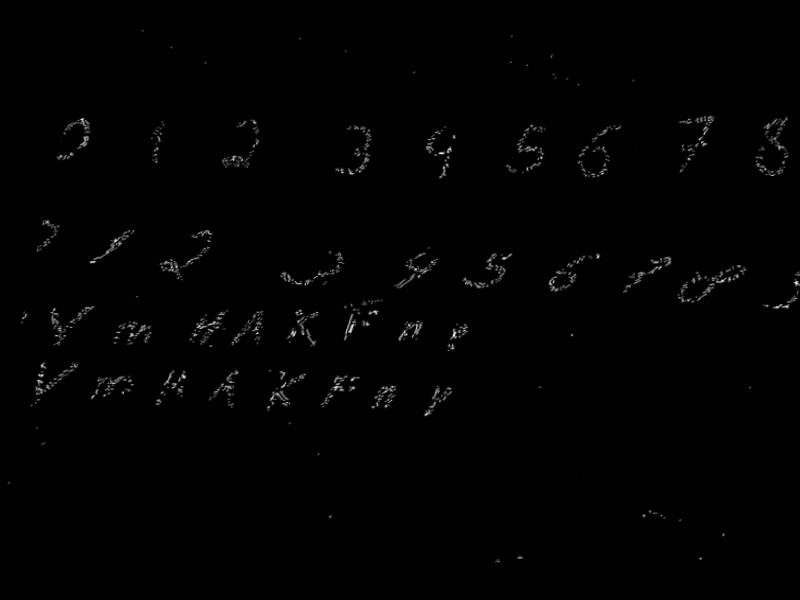0: (56, 116, 99, 162), (34, 216, 68, 266)
1: (80, 224, 140, 267), (134, 118, 176, 165)
2: (150, 229, 218, 283), (214, 116, 273, 172)
3: (273, 246, 352, 289), (325, 122, 385, 177)
4: (409, 125, 466, 182), (386, 246, 447, 290)
5: (498, 123, 557, 176), (457, 251, 517, 289)
6: (566, 122, 628, 181), (542, 251, 604, 296)
7: (656, 113, 721, 175), (616, 253, 675, 296)
8: (669, 253, 753, 308), (742, 114, 800, 181)
9: (755, 262, 800, 316)
A: (205, 368, 247, 411), (230, 308, 272, 348)
F: (316, 373, 363, 412), (338, 306, 382, 345)
H: (185, 307, 231, 348), (153, 367, 192, 407)
V: (19, 359, 83, 411), (33, 304, 97, 348)
k: (261, 367, 311, 413), (279, 307, 330, 349)
m: (104, 320, 159, 351), (86, 373, 140, 404)
n: (366, 383, 399, 412), (394, 317, 426, 346)
p: (420, 383, 455, 420), (442, 321, 473, 354)
u: (15, 306, 35, 352), (6, 363, 14, 396)
